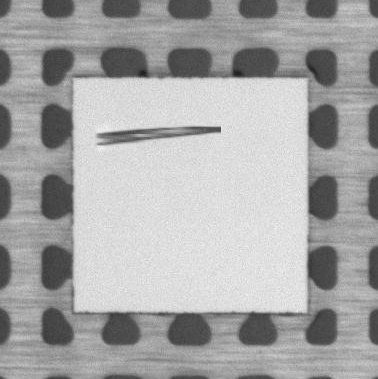DIE_INK: (94, 121, 222, 148)
